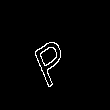P_NW: (33, 24, 77, 86)
